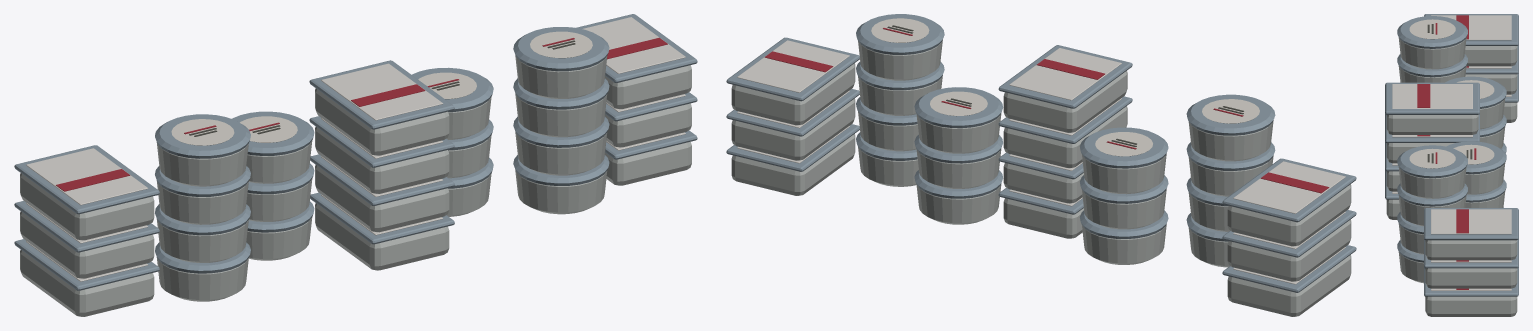
Rendered from storage.glb.
The picture shows the model from 3 angles, left to right: view 1: azimuth 30°, elevation 25°; view 2: azimuth 150°, elevation 25°; view 3: azimuth 270°, elevation 25°; orthographic projection. The views are drawn at different scales.
Visible parts, largest first — view 1: 실내 조명 베이크용 storage; view 2: 실내 조명 베이크용 storage; view 3: 실내 조명 베이크용 storage.
Part boxes in pixels (<box>): 실내 조명 베이크용 storage: <box>14,14,697,316</box>; 실내 조명 베이크용 storage: <box>726,14,1356,316</box>; 실내 조명 베이크용 storage: <box>1385,14,1518,316</box>.
Bounding box in the file's own units: 1.21 × 0.288 × 0.304.
